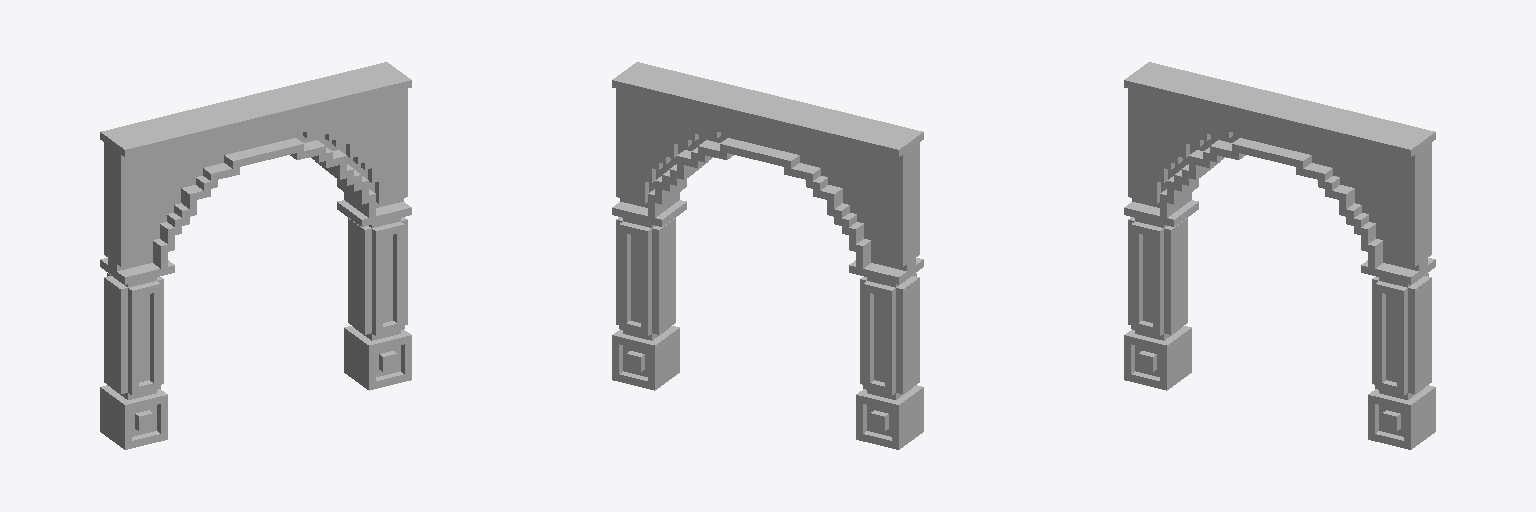
The model's file is arch.obj.
The picture shows the model from 3 angles: view 1: azimuth 30°, elevation 25°; view 2: azimuth 150°, elevation 25°; view 3: azimuth 330°, elevation 25°; orthographic projection.
Visible parts, largest first — view 1: object 1; view 2: object 1; view 3: object 1.
Boxes of the visible parts, <box> form: object 1: <box>100,62,411,449</box>; object 1: <box>612,62,923,449</box>; object 1: <box>1124,62,1435,449</box>.
Bounding box in the file's own units: 4 × 4 × 0.6.